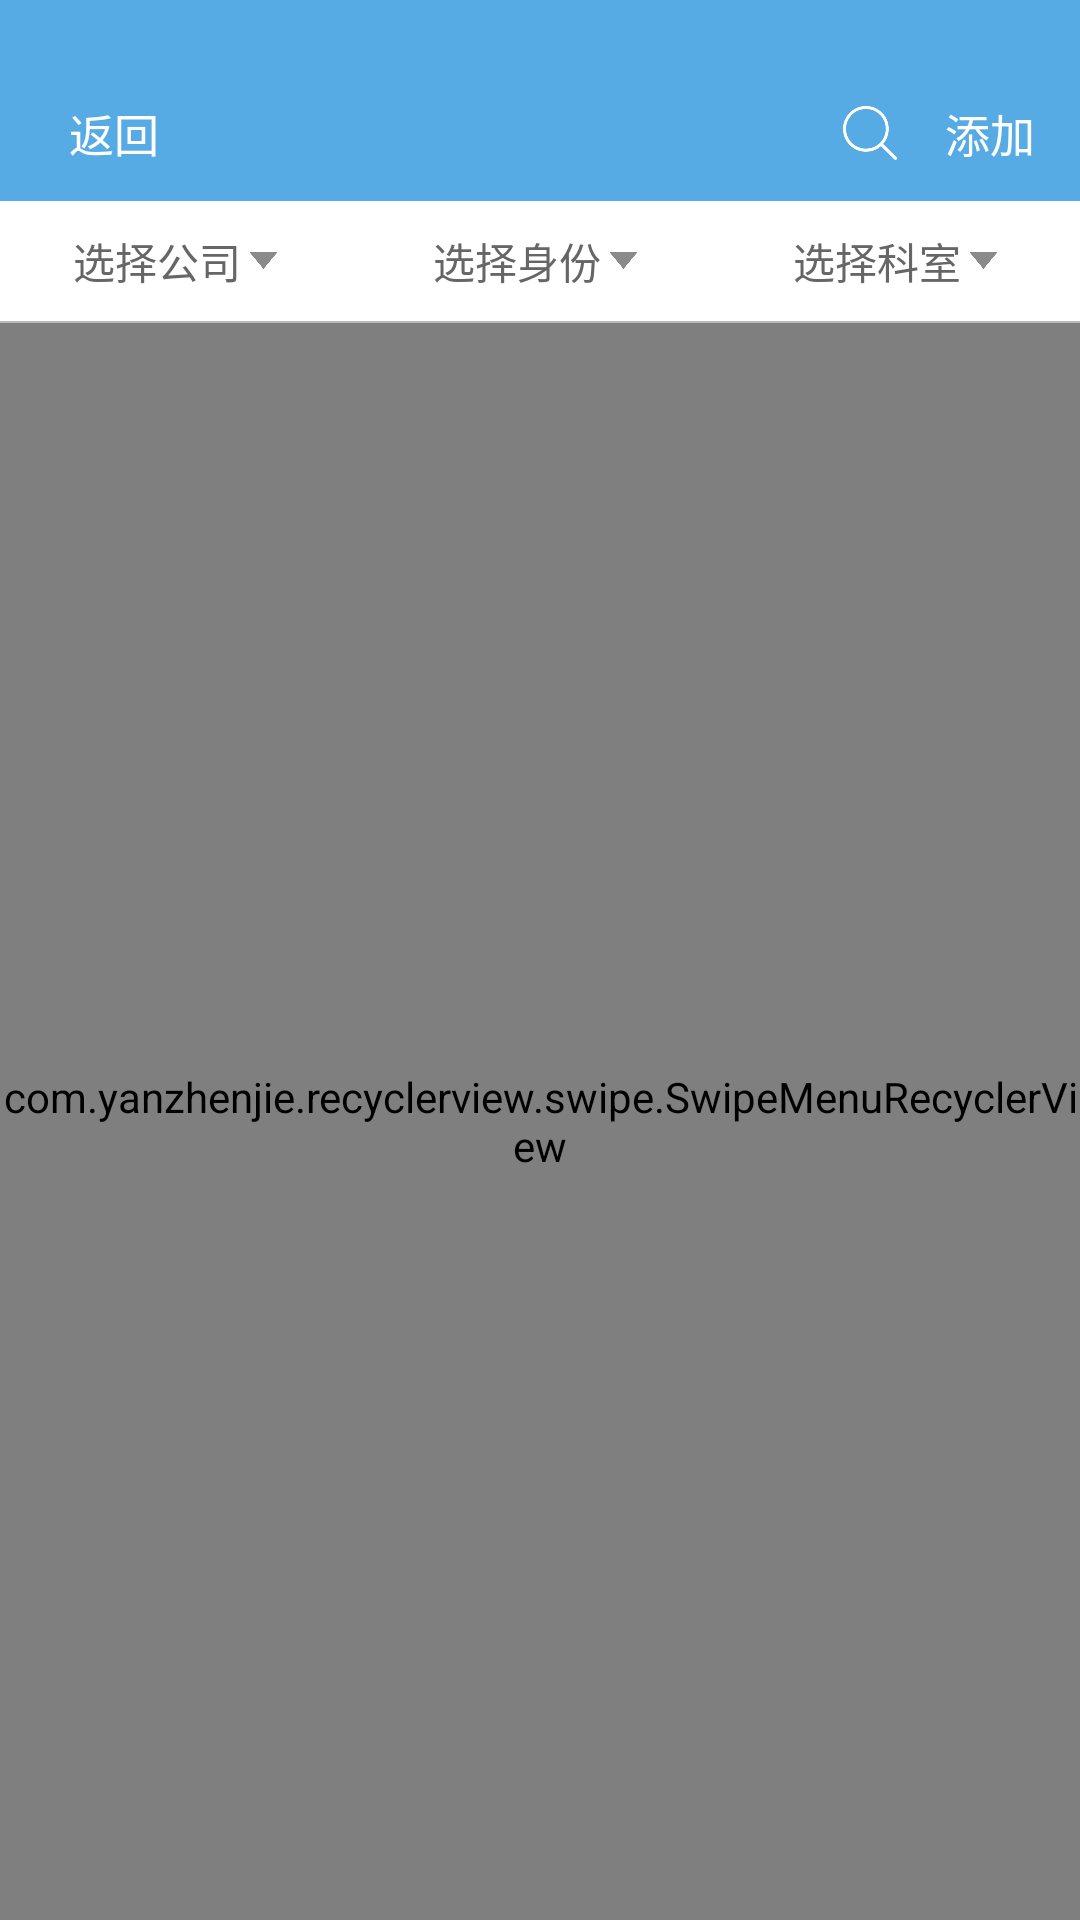

Named icons in this screenshot (1080×1920) and their bounding boxes, (x1, y1, x2, y2):
search: (843, 106, 897, 160)
turn bottom: (250, 252, 277, 269), (610, 252, 637, 269), (970, 252, 997, 269)
